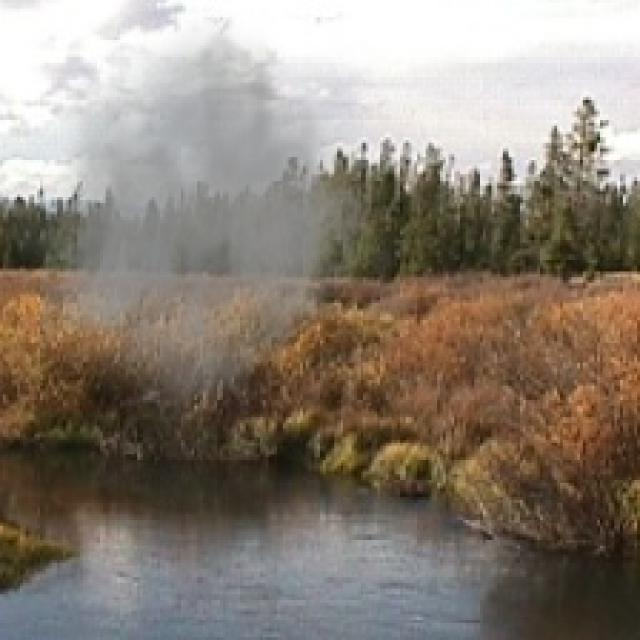Smoke: (40, 11, 406, 432)
